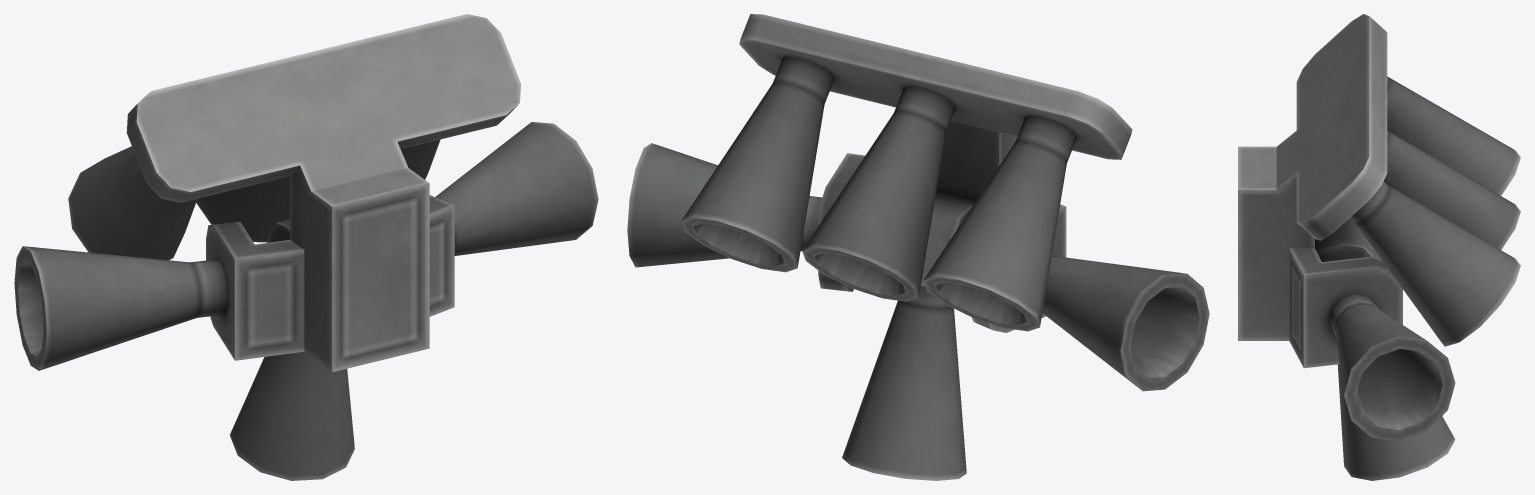
Rendered from dir4.obj.
3 views of the same model, side by side, from view 1: azimuth 30°, elevation 25°; view 2: azimuth 150°, elevation 25°; view 3: azimuth 270°, elevation 25° (orthographic). The views are drawn at different scales.
Visible parts, largest first — view 1: d4; view 2: d4; view 3: d4.
Boxes of the visible parts, box(x1,y1,x2,y2) form: d4: box(14, 14, 598, 480); d4: box(627, 14, 1209, 480); d4: box(1238, 14, 1520, 480).
Bounding box in the file's own units: 0.5672 × 0.4095 × 0.276.
Materials: 1 (1 with a texture image).
